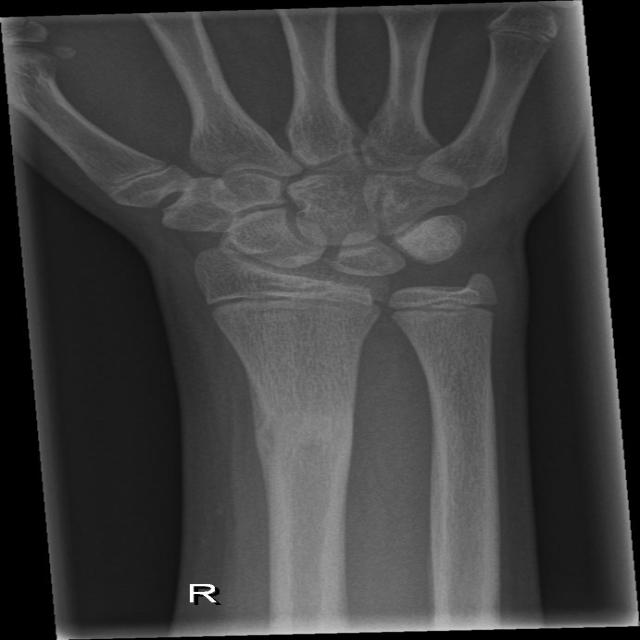fracture: (191, 284, 397, 329), (372, 283, 505, 327)
